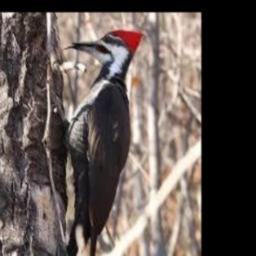Woodpecker: (62, 30, 143, 256)
